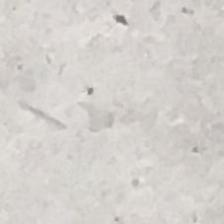Non_Crack: (6, 27, 209, 210)
